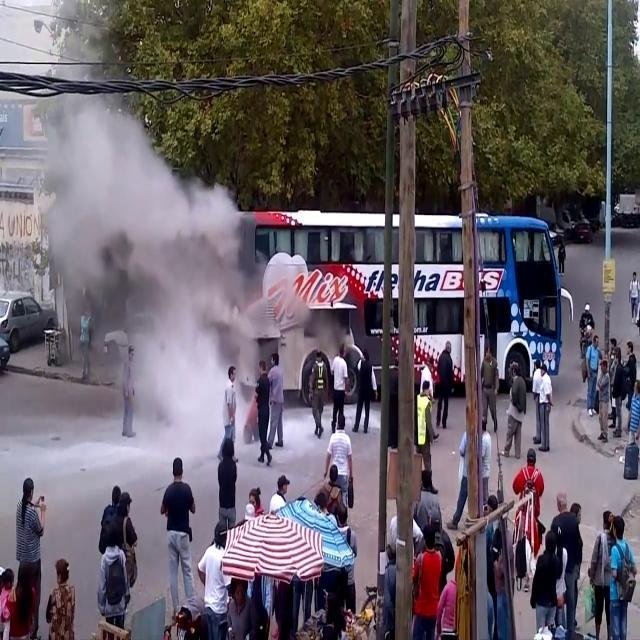Smoke: (35, 80, 257, 480)
